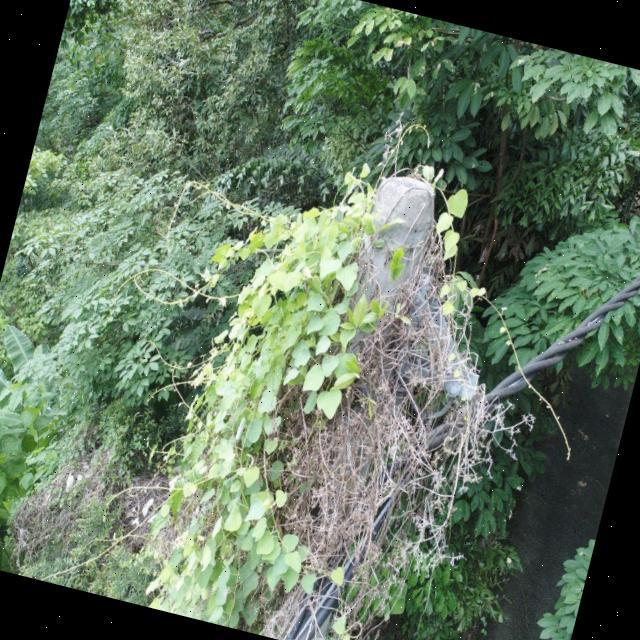critical vegetation: (112, 89, 562, 640)
